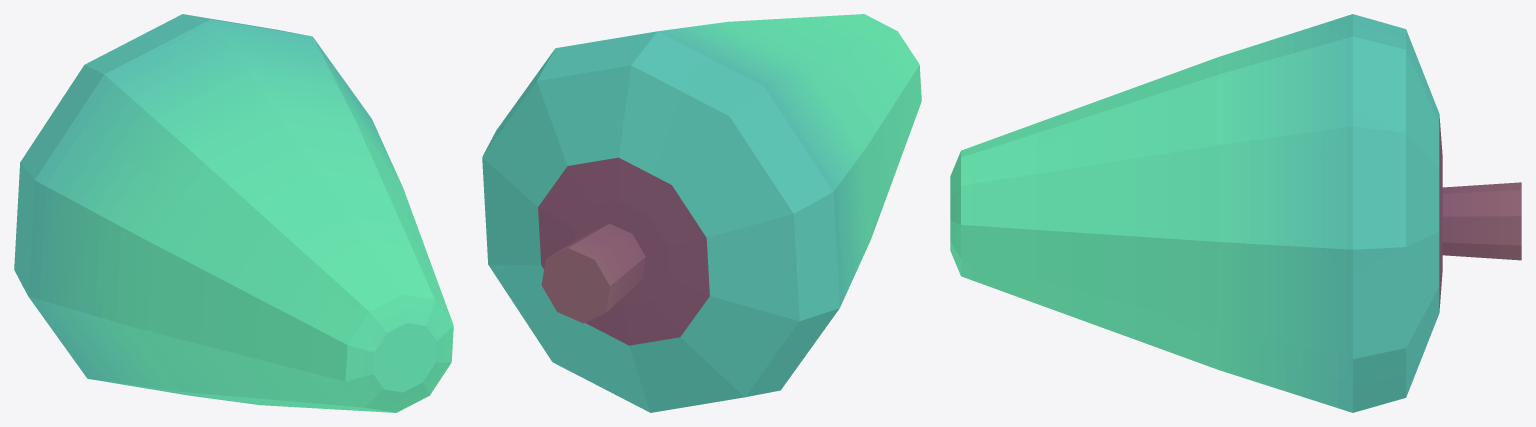
Rendered from tree4.glb.
The picture shows the model from 3 angles, left to right: view 1: azimuth 30°, elevation 25°; view 2: azimuth 150°, elevation 25°; view 3: azimuth 270°, elevation 25°; orthographic projection.
Parts seen in each view (by area): view 1: Object_46; view 2: Object_46; view 3: Object_46.
Boxes of the visible parts, x1,y1,x2,y2 form: Object_46: (14, 14, 453, 412); Object_46: (482, 14, 921, 412); Object_46: (950, 14, 1521, 412).
Bounding box in the file's own units: 5.91 × 6.1 × 8.67.
Materials: 1 (1 with a texture image).
